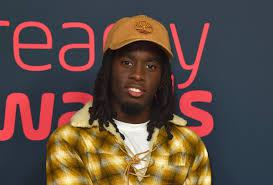kai-cenat: (109, 41, 170, 113)
